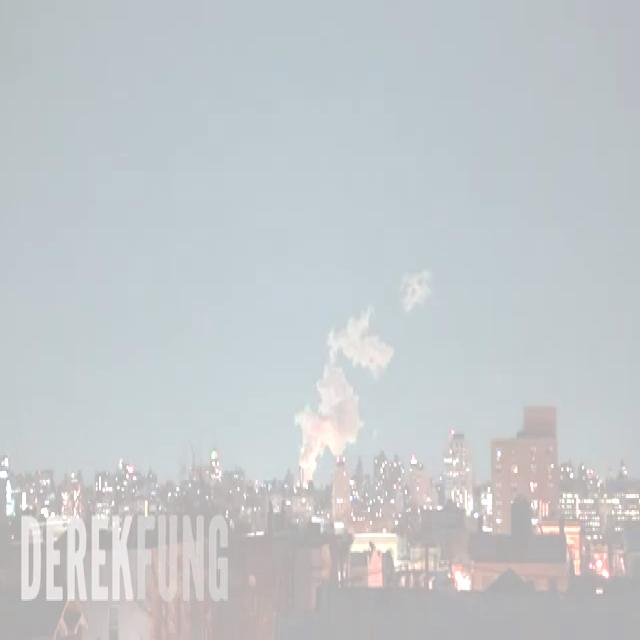smoke: (295, 308, 392, 478)
